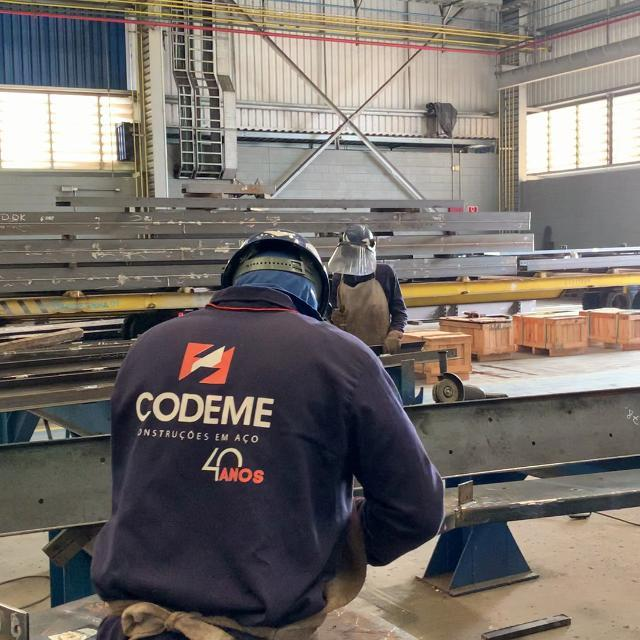eye-glass: (324, 245, 378, 278)
glove: (218, 230, 335, 318), (338, 223, 374, 247)
mask: (88, 228, 447, 622), (325, 222, 410, 354)
